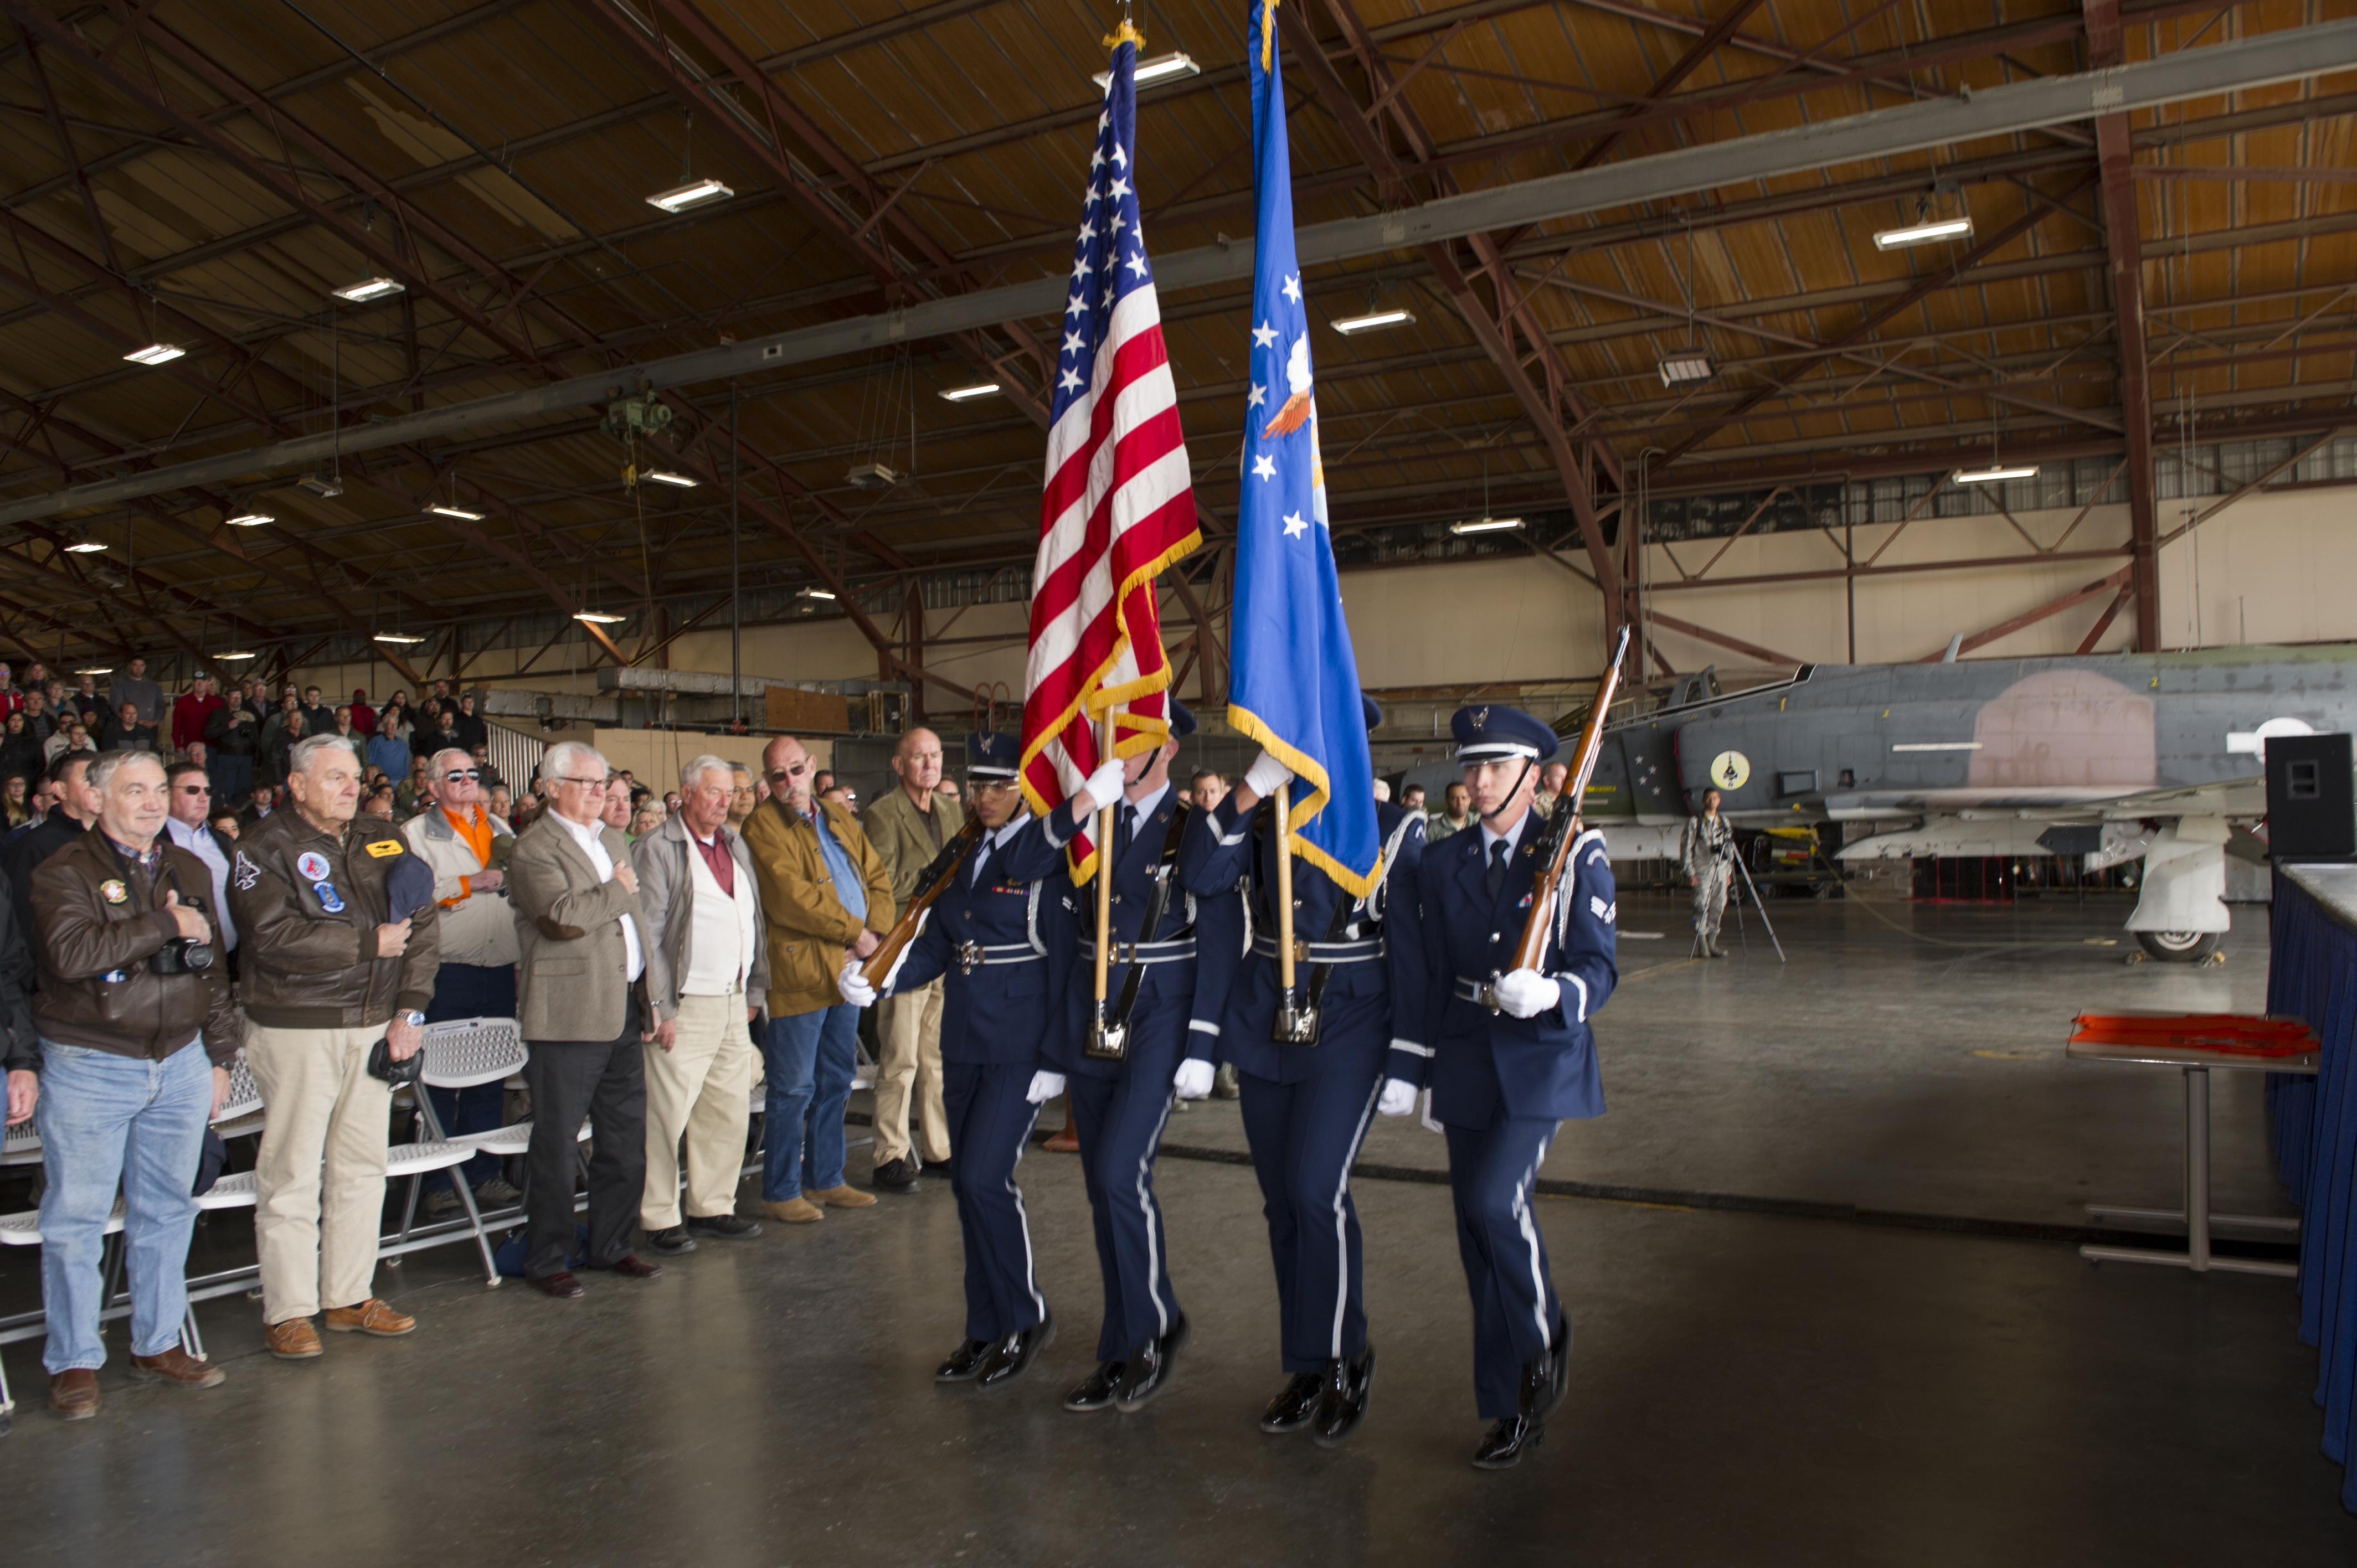F4: (1377, 632, 2357, 962)
